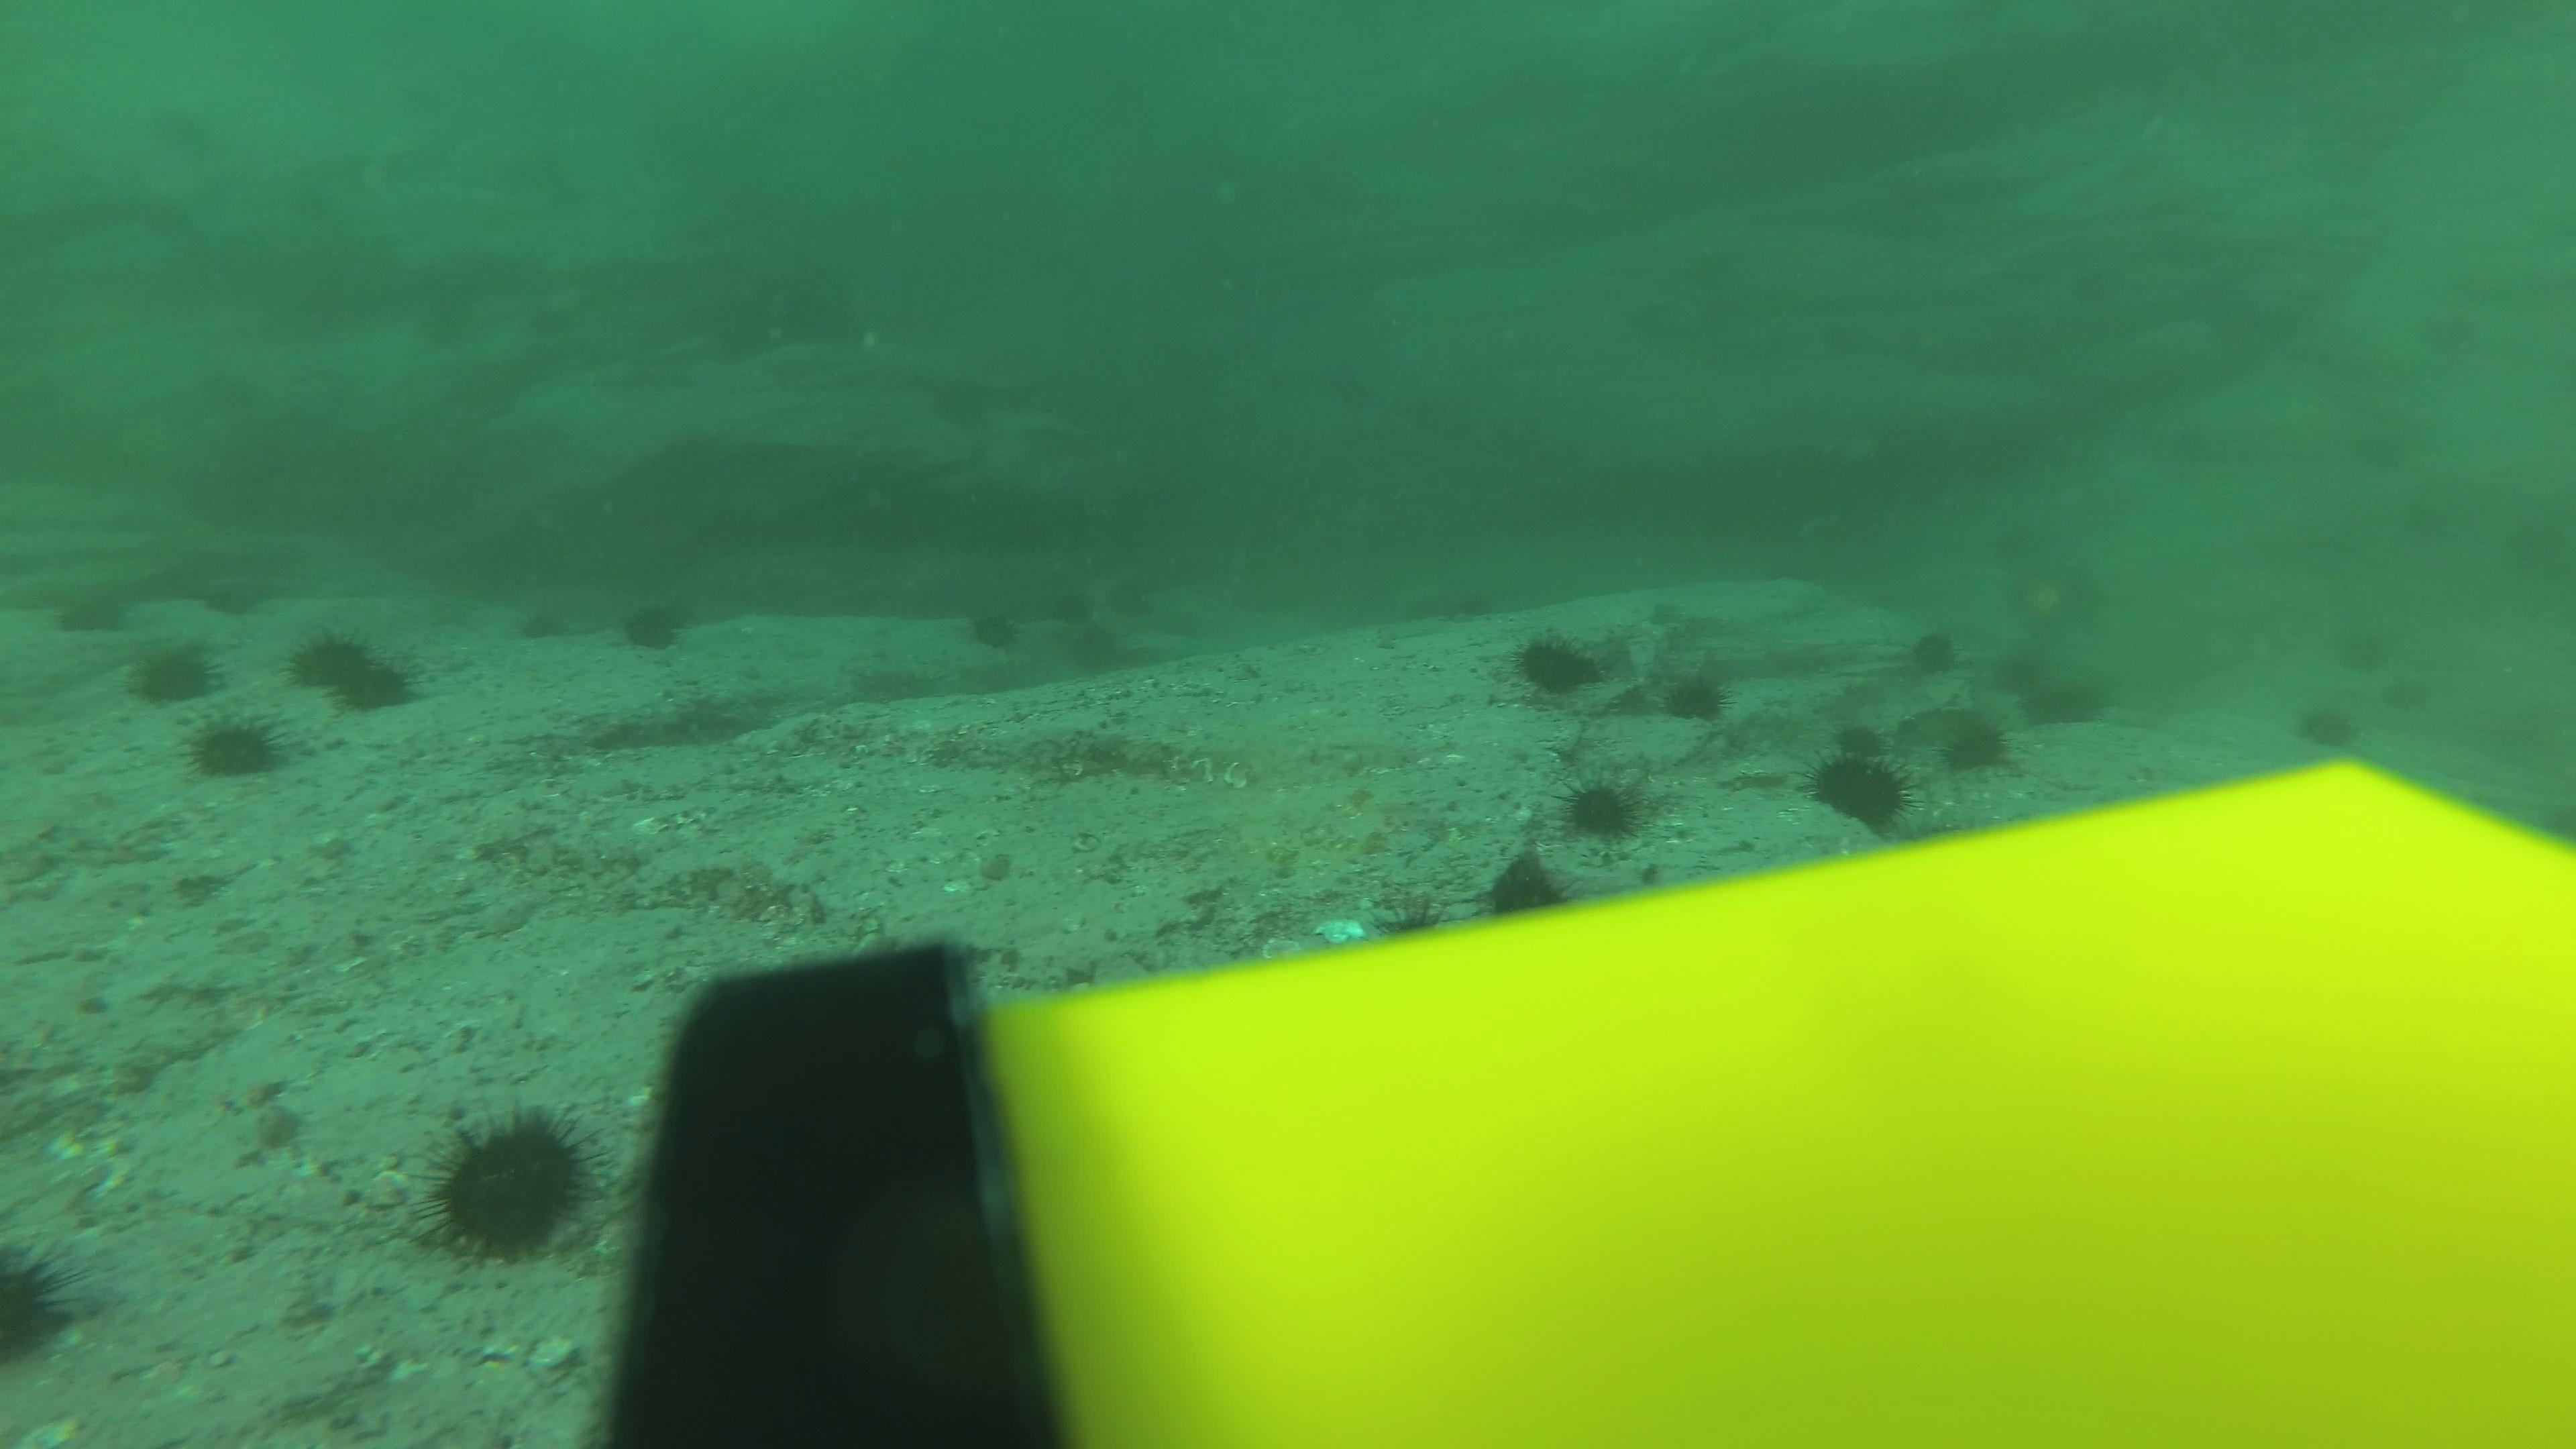echinus: (414, 1100, 600, 1265), (0, 1237, 85, 1371), (1803, 736, 1918, 833), (2001, 648, 2114, 732), (1499, 625, 1614, 708), (180, 709, 290, 789), (120, 632, 225, 711), (1555, 770, 1658, 849), (1474, 846, 1576, 924), (1934, 708, 2022, 784), (481, 598, 579, 665), (331, 655, 426, 722), (290, 633, 386, 699), (610, 589, 697, 658), (1658, 660, 1736, 727), (2321, 621, 2401, 686), (2498, 803, 2576, 869), (1375, 888, 1454, 952), (2288, 690, 2365, 754), (2371, 658, 2449, 722), (1056, 621, 1136, 683), (1028, 582, 1108, 644), (1090, 575, 1169, 637), (959, 600, 1026, 656), (1904, 621, 1962, 679)
